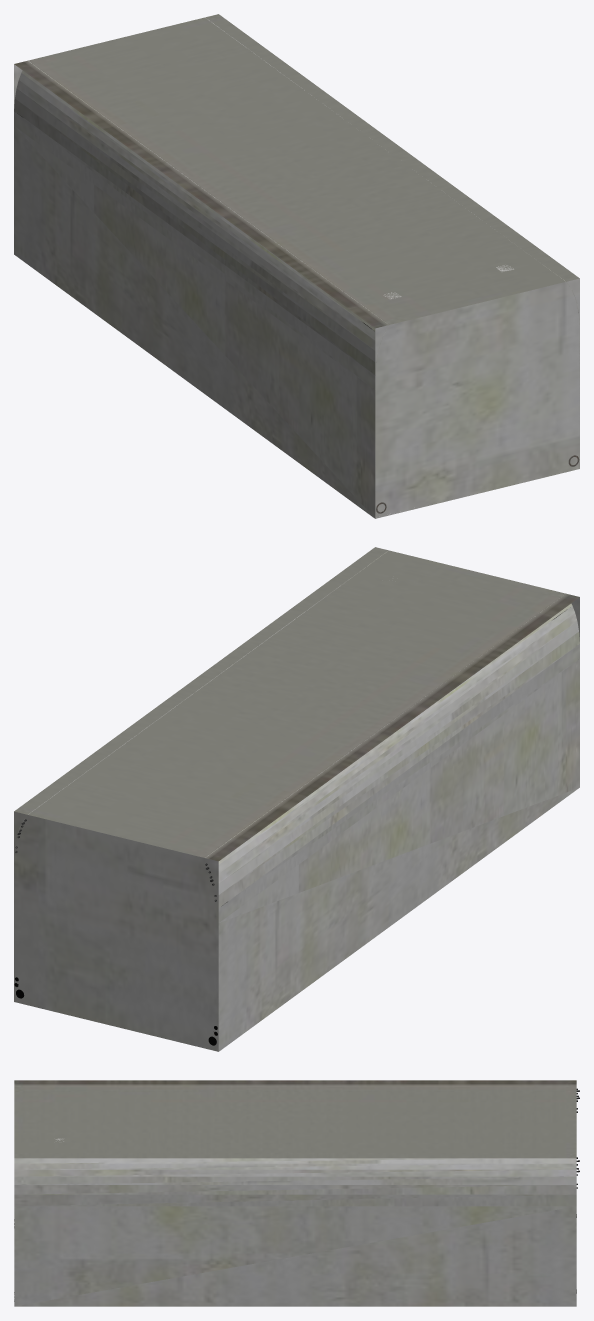
The model's file is tunnel-v3.glb.
The picture shows the model from 3 angles, top to bottom: view 1: azimuth 30°, elevation 25°; view 2: azimuth 150°, elevation 25°; view 3: azimuth 270°, elevation 25°; orthographic projection. The views are drawn at different scales.
Visible parts, largest first — view 1: wall; view 2: wall; view 3: wall.
Boxes of the visible parts, box(x1,y1,x2,y2) form: wall: box(14, 14, 579, 518); wall: box(14, 547, 579, 1051); wall: box(14, 1080, 576, 1306).
Bounding box in the file's own units: 18 × 16.03 × 55.34.
9 materials, 6 textured.
